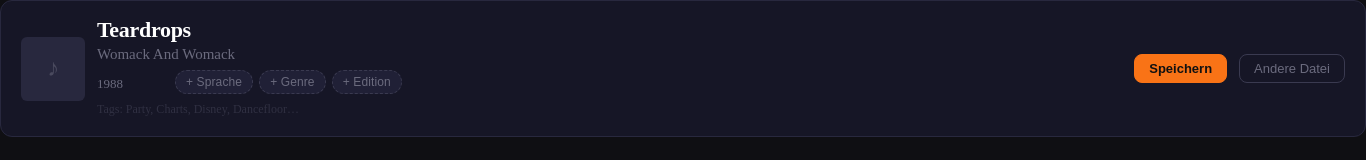
Test: HeaderEditor › tooltips on tag editors (#10) › shows Genre tooltip on hover over add button
Hover over the element "+ Genre": (292, 82) [259,70,326,94]
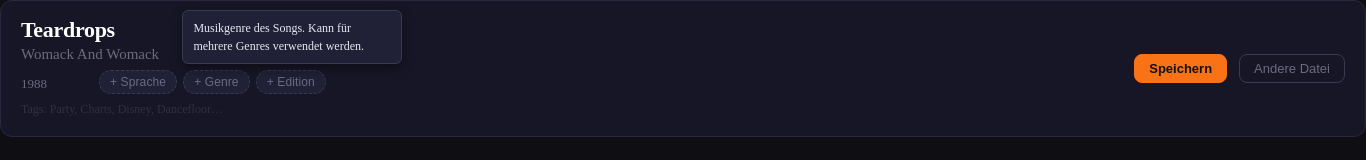
Check: the tooltip is shown, box [182,10,402,64]
